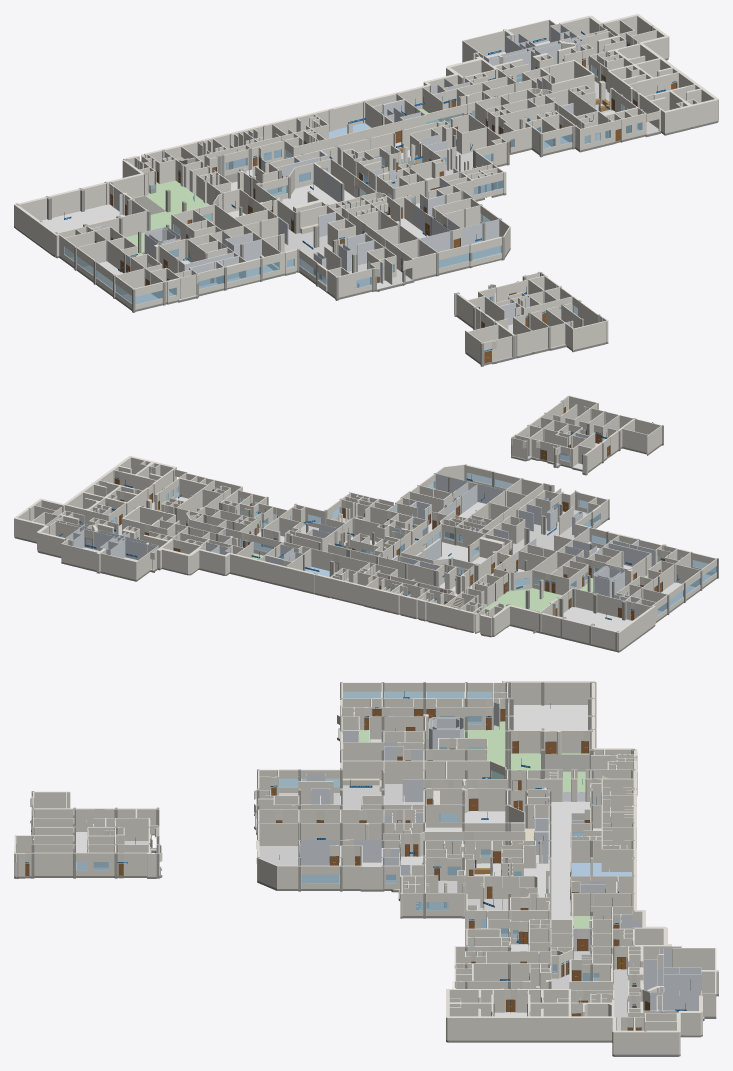
File: solca_sb.glb
3 renders of one model, top to bottom at view 1: azimuth 30°, elevation 25°; view 2: azimuth 150°, elevation 25°; view 3: azimuth 270°, elevation 25°, orthographic. The views are drawn at different scales.
Visible parts, largest first — view 1: muros|0.902,0.884,0.810|0.00, muros|0.810,0.865,0.922|0.00, muros|0.462,0.462,0.436|0.00, muros|0.303,0.608,0.846|0.60, pisos|0.865,0.865,0.865|0.00, pisos|0.384,0.384,0.360|0.00, pisos|0.740,0.740,0.740|0.00, pisos|0.608,0.810,0.548|0.00, muros|0.360,0.160,0.053|0.00, muros|0.102,0.109,0.130|0.00, letreros|0.002,0.130,0.423|0.00; view 2: muros|0.902,0.884,0.810|0.00, muros|0.810,0.865,0.922|0.00, muros|0.462,0.462,0.436|0.00, muros|0.303,0.608,0.846|0.60, pisos|0.865,0.865,0.865|0.00, pisos|0.384,0.384,0.360|0.00, muros|0.360,0.160,0.053|0.00, pisos|0.740,0.740,0.740|0.00, pisos|0.608,0.810,0.548|0.00, muros|0.102,0.109,0.130|0.00, letreros|0.002,0.130,0.423|0.00; view 3: muros|0.902,0.884,0.810|0.00, muros|0.810,0.865,0.922|0.00, pisos|0.865,0.865,0.865|0.00, muros|0.462,0.462,0.436|0.00, pisos|0.740,0.740,0.740|0.00, muros|0.303,0.608,0.846|0.60, pisos|0.384,0.384,0.360|0.00, muros|0.360,0.160,0.053|0.00, pisos|0.608,0.810,0.548|0.00, muros|0.102,0.109,0.130|0.00.
Boxes of the visible parts, x1,y1,x2,y2 form: muros|0.902,0.884,0.810|0.00: [14, 14, 718, 363]; muros|0.810,0.865,0.922|0.00: [100, 24, 609, 325]; muros|0.462,0.462,0.436|0.00: [15, 25, 653, 364]; muros|0.303,0.608,0.846|0.60: [64, 57, 641, 315]; pisos|0.865,0.865,0.865|0.00: [40, 41, 639, 361]; pisos|0.384,0.384,0.360|0.00: [14, 58, 718, 366]; pisos|0.740,0.740,0.740|0.00: [284, 81, 658, 348]; pisos|0.608,0.810,0.548|0.00: [125, 108, 473, 266]; muros|0.360,0.160,0.053|0.00: [95, 44, 676, 363]; muros|0.102,0.109,0.130|0.00: [95, 43, 677, 363]; letreros|0.002,0.130,0.423|0.00: [64, 31, 676, 351]; muros|0.902,0.884,0.810|0.00: [14, 395, 716, 650]; muros|0.810,0.865,0.922|0.00: [56, 407, 655, 615]; muros|0.462,0.462,0.436|0.00: [28, 400, 718, 650]; muros|0.303,0.608,0.846|0.60: [79, 426, 716, 615]; pisos|0.865,0.865,0.865|0.00: [83, 416, 710, 630]; pisos|0.384,0.384,0.360|0.00: [14, 443, 718, 652]; muros|0.360,0.160,0.053|0.00: [115, 407, 664, 620]; pisos|0.740,0.740,0.740|0.00: [114, 454, 594, 553]; pisos|0.608,0.810,0.548|0.00: [253, 553, 648, 618]; muros|0.102,0.109,0.130|0.00: [85, 407, 664, 619]; letreros|0.002,0.130,0.423|0.00: [58, 429, 679, 620]; muros|0.902,0.884,0.810|0.00: [14, 681, 718, 1054]; muros|0.810,0.865,0.922|0.00: [34, 702, 701, 1012]; pisos|0.865,0.865,0.865|0.00: [76, 705, 703, 1018]; muros|0.462,0.462,0.436|0.00: [31, 682, 646, 1031]; pisos|0.740,0.740,0.740|0.00: [94, 784, 643, 1030]; muros|0.303,0.608,0.846|0.60: [76, 691, 599, 981]; pisos|0.384,0.384,0.360|0.00: [14, 721, 718, 1056]; muros|0.360,0.160,0.053|0.00: [25, 709, 649, 1030]; pisos|0.608,0.810,0.548|0.00: [360, 721, 590, 928]; muros|0.102,0.109,0.130|0.00: [25, 709, 649, 1030].
Bounding box in the file's own units: 128 × 4.2 × 108.
